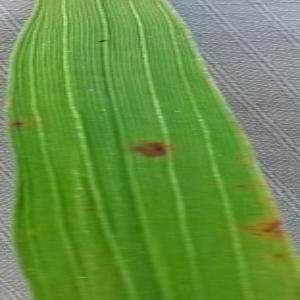0 BrownSpot: (123, 133, 174, 166), (242, 215, 288, 241), (261, 218, 287, 238), (91, 34, 115, 48), (270, 248, 290, 264), (9, 117, 29, 131), (233, 179, 250, 193), (242, 223, 259, 233), (254, 232, 265, 239)
